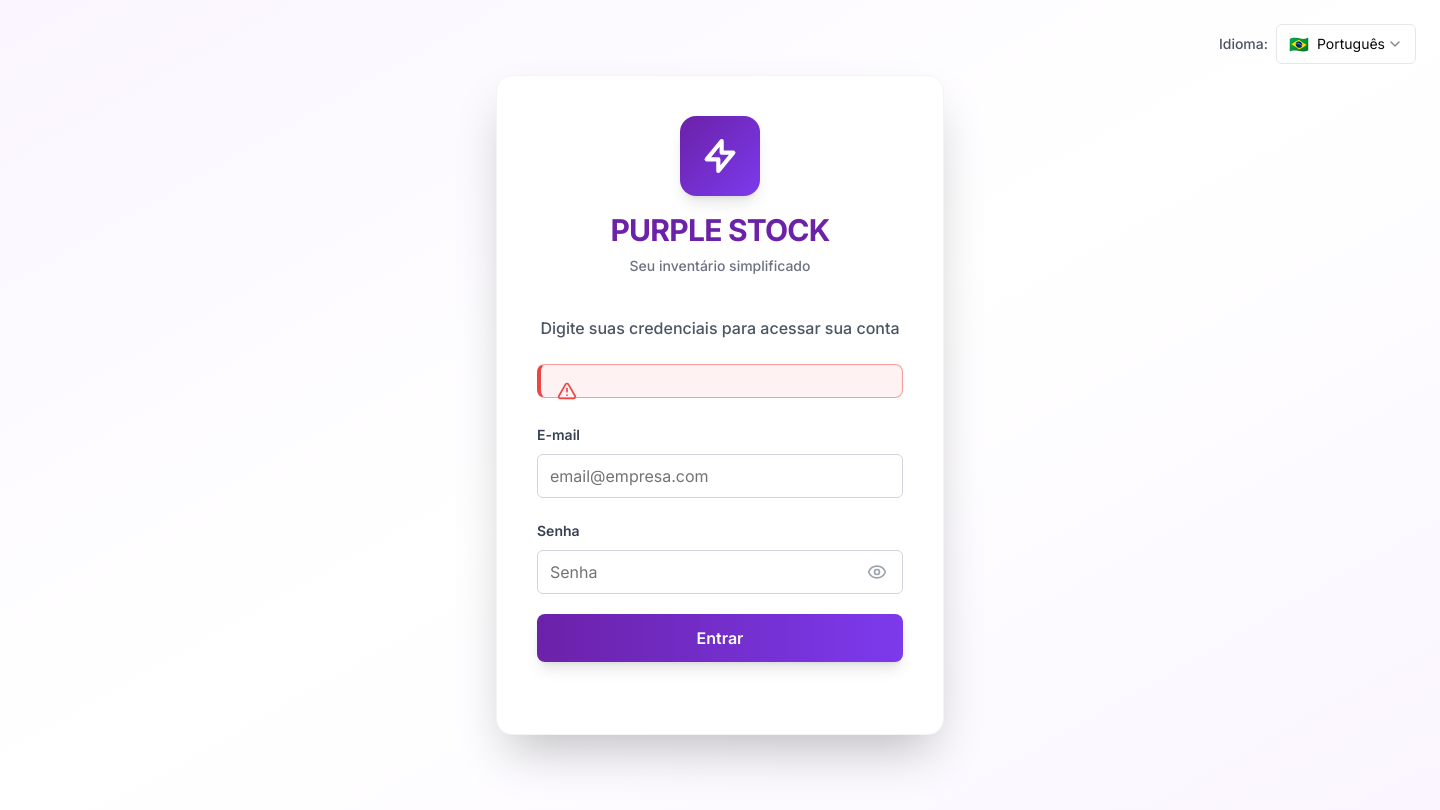
Test: LoginPage › does not disguise a server failure as invalid credentials
The width and height of the screenshot is (1440, 810).
Type "ariel.graunadigital@gmail.com" into the field labelled "E-mail" at (720, 476), box [537,454,903,498]
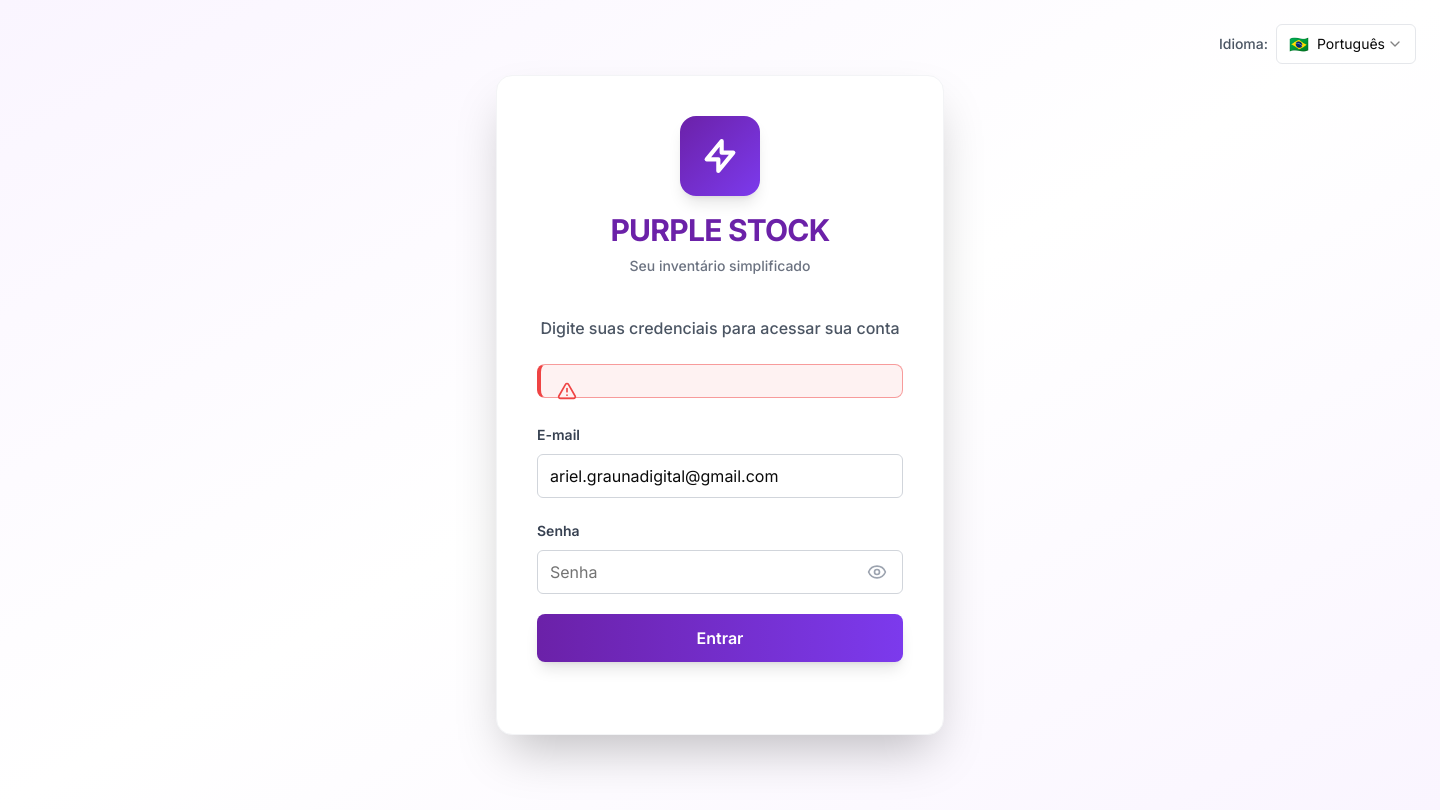
Type "password123" into the password field labelled "Senha" at (720, 572), box [537,550,903,594]
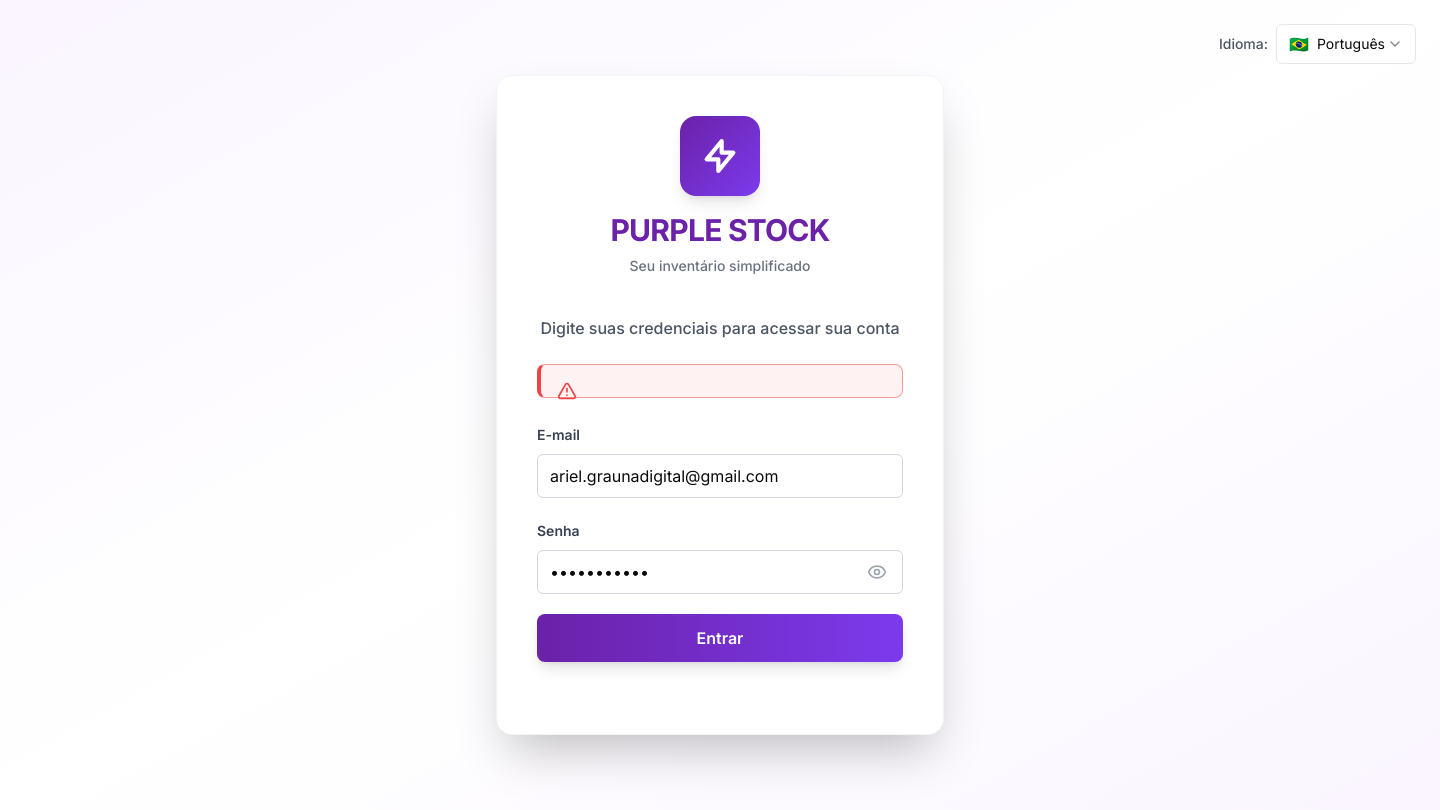
Click the button "Entrar" at (720, 638), box [537,614,903,662]
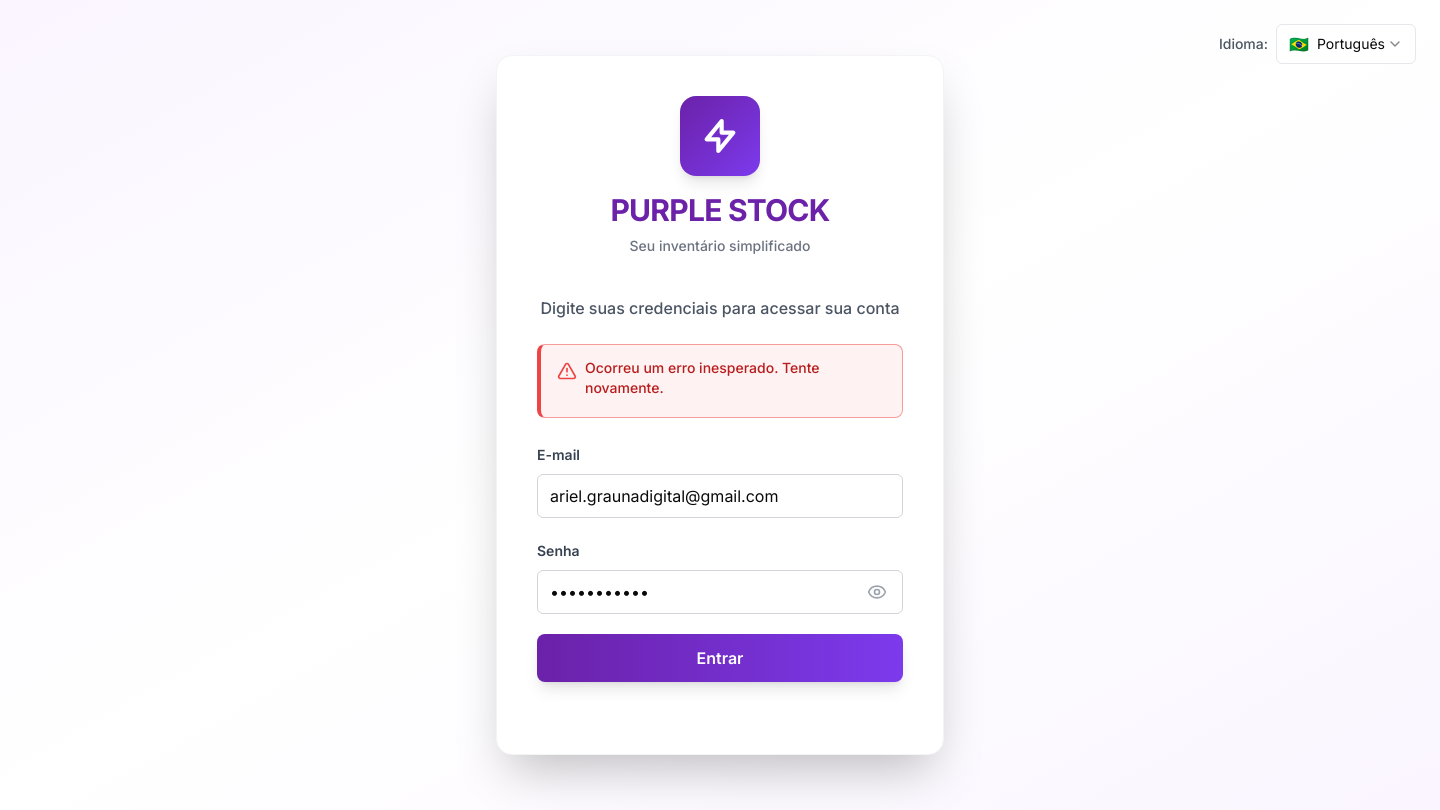
Result: the text "Ocorreu um erro inesperado. Tente novamente." is shown at [585,359,820,396]
